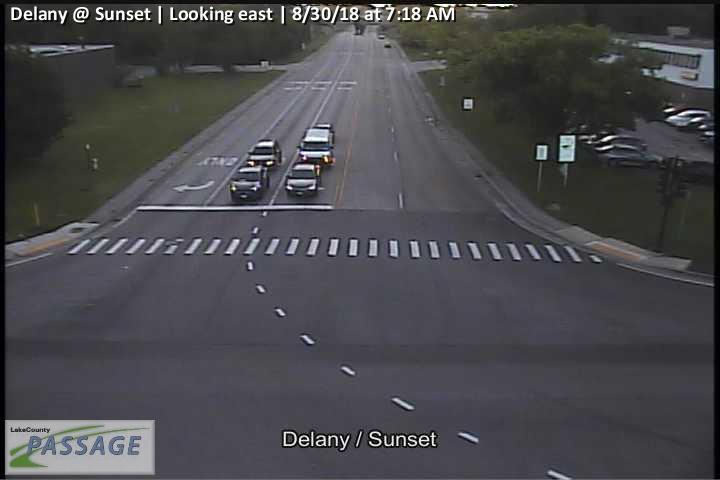SUV: (297, 127, 335, 166), (231, 164, 270, 200), (248, 138, 282, 168), (593, 135, 647, 150)
Sedan: (595, 144, 657, 168), (285, 162, 320, 195), (665, 109, 712, 128)
